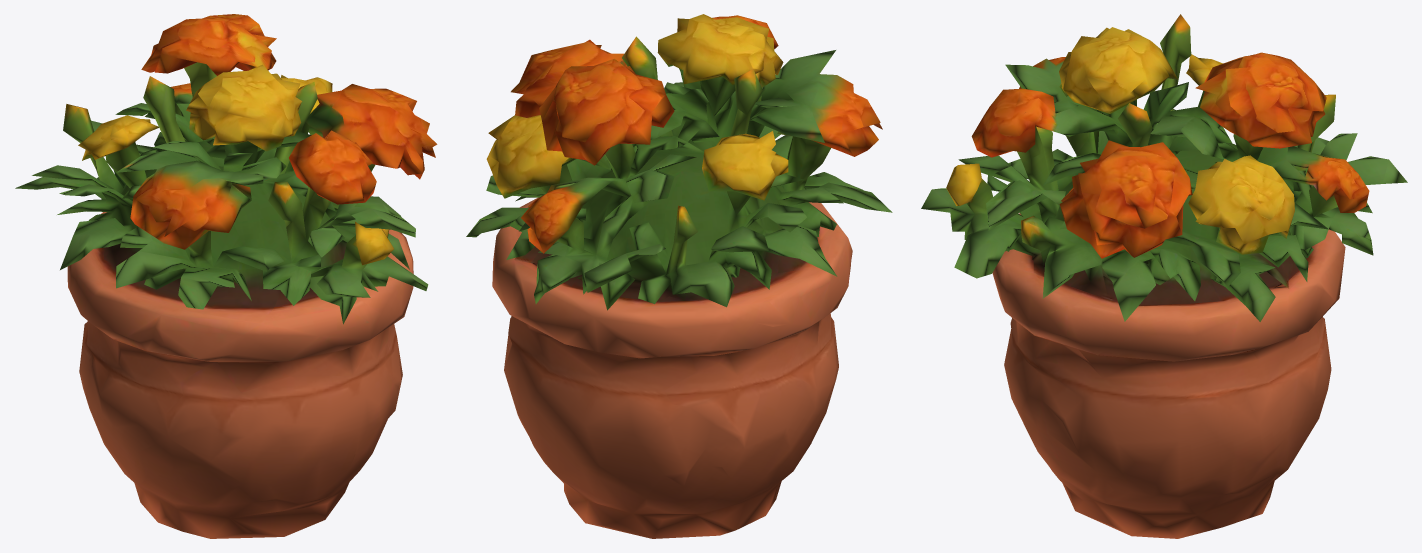
The model's file is street-marigold-planter.glb.
3 views of the same model, side by side, from view 1: azimuth 30°, elevation 25°; view 2: azimuth 150°, elevation 25°; view 3: azimuth 270°, elevation 25° (orthographic). The views are drawn at different scales.
Parts seen in each view (by area): view 1: tripo_node_66dfedc5-f45e-426e-bbe3-05f433c1f459; view 2: tripo_node_66dfedc5-f45e-426e-bbe3-05f433c1f459; view 3: tripo_node_66dfedc5-f45e-426e-bbe3-05f433c1f459.
Boxes of the visible parts, x1,y1,x2,y2 form: tripo_node_66dfedc5-f45e-426e-bbe3-05f433c1f459: [15, 14, 437, 538]; tripo_node_66dfedc5-f45e-426e-bbe3-05f433c1f459: [466, 14, 892, 538]; tripo_node_66dfedc5-f45e-426e-bbe3-05f433c1f459: [921, 14, 1407, 538].
Size of the model in its own units: 0.7783 by 1 by 0.983.
Materials: 1 (1 with a texture image).
